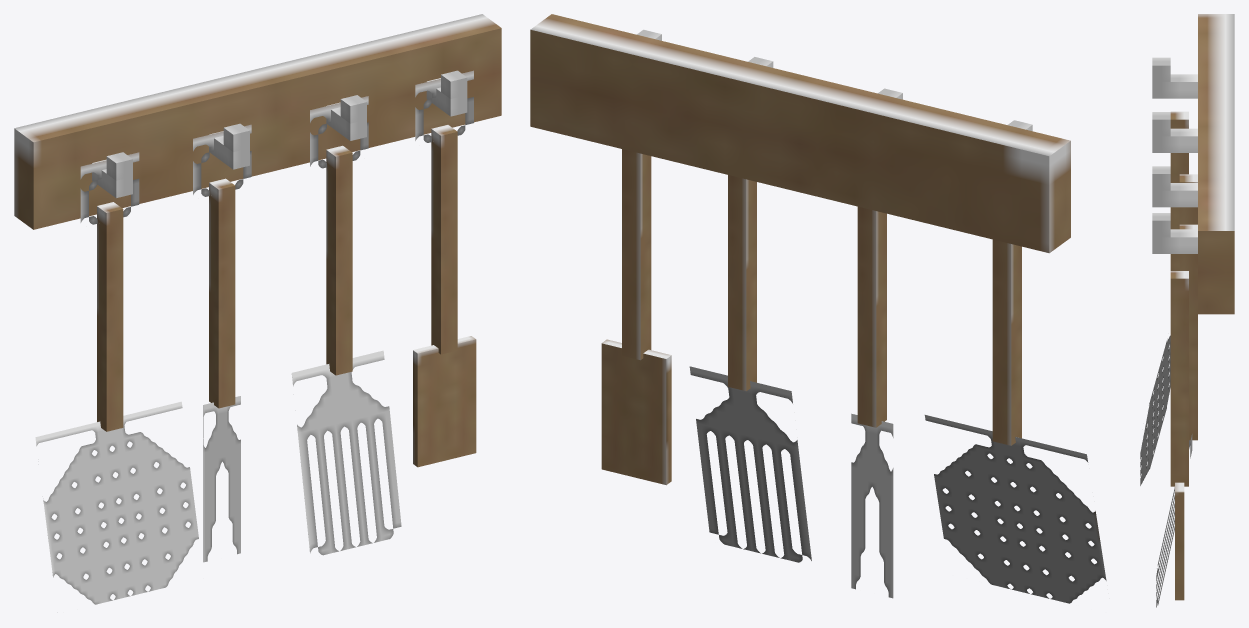
Rendered from utensil_hooks.obj.
3 renders of one model, left to right at view 1: azimuth 30°, elevation 25°; view 2: azimuth 150°, elevation 25°; view 3: azimuth 270°, elevation 25°, orthographic. The views are drawn at different scales.
Parts seen in each view (by area): view 1: Strip, Blade2, Blade3, Blade4, Handle, Handle2, Handle3, Handle4, Blade, Hookb, Loop2, Loop4 (+6 smaller); view 2: Strip, Blade2, Blade3, Blade4, Handle, Handle4, Handle3, Handle2, Blade; view 3: Strip, Handle4, Handle3, Blade2, Hookb, Handle2, Blade4, Hook3, Hook, Hook4, Hook2, Blade3 (+1 smaller).
Boxes of the visible parts, box(x1,y1,x2,y2) form: Strip: box(14, 14, 501, 229); Blade2: box(35, 401, 198, 604); Blade3: box(291, 350, 401, 555); Blade4: box(413, 336, 476, 467); Handle: box(209, 178, 235, 408); Handle2: box(97, 202, 123, 431); Handle3: box(326, 145, 352, 375); Handle4: box(431, 125, 457, 354); Blade: box(203, 396, 240, 562); Hookb: box(106, 70, 467, 180); Loop2: box(80, 152, 139, 224); Loop4: box(415, 70, 473, 142); Strip: box(530, 14, 1070, 253); Blade2: box(924, 415, 1106, 603); Blade3: box(689, 366, 811, 562); Blade4: box(601, 339, 671, 485); Handle: box(857, 206, 886, 427); Handle4: box(622, 149, 651, 360); Handle3: box(728, 175, 756, 391); Handle2: box(992, 239, 1021, 445); Blade: box(851, 413, 893, 598); Strip: box(1198, 14, 1234, 314); Handle4: box(1170, 271, 1188, 486); Handle3: box(1179, 224, 1197, 440); Blade2: box(1140, 335, 1170, 485); Hookb: box(1152, 57, 1170, 237); Handle2: box(1170, 111, 1188, 270); Blade4: box(1175, 482, 1184, 600); Hook3: box(1152, 183, 1197, 207); Hook: box(1152, 74, 1197, 98); Hook4: box(1152, 229, 1197, 253); Hook2: box(1152, 128, 1197, 152); Blade3: box(1156, 434, 1192, 607).
Size of the model in its own units: 1.77 by 1.65 by 0.3222.
